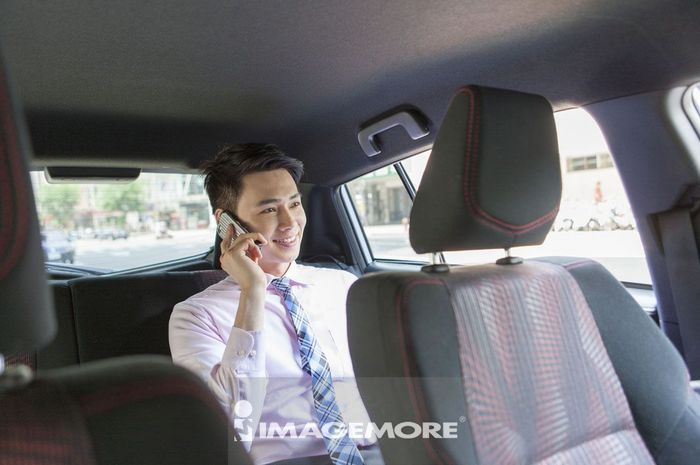phone: (218, 212, 261, 261)
talk: (215, 193, 307, 305)
